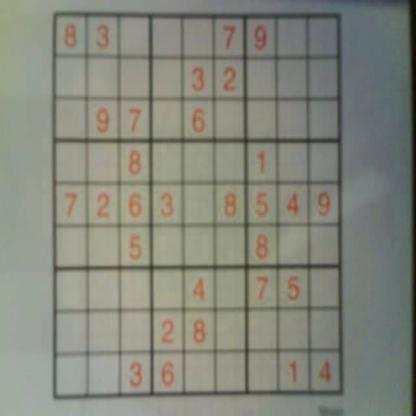sudoku: (49, 7, 346, 404)
